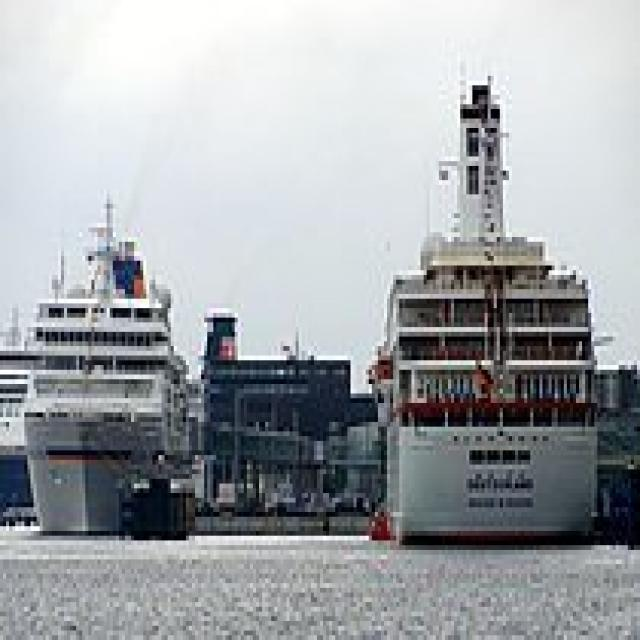Ship: (361, 53, 611, 565), (16, 177, 208, 547)
